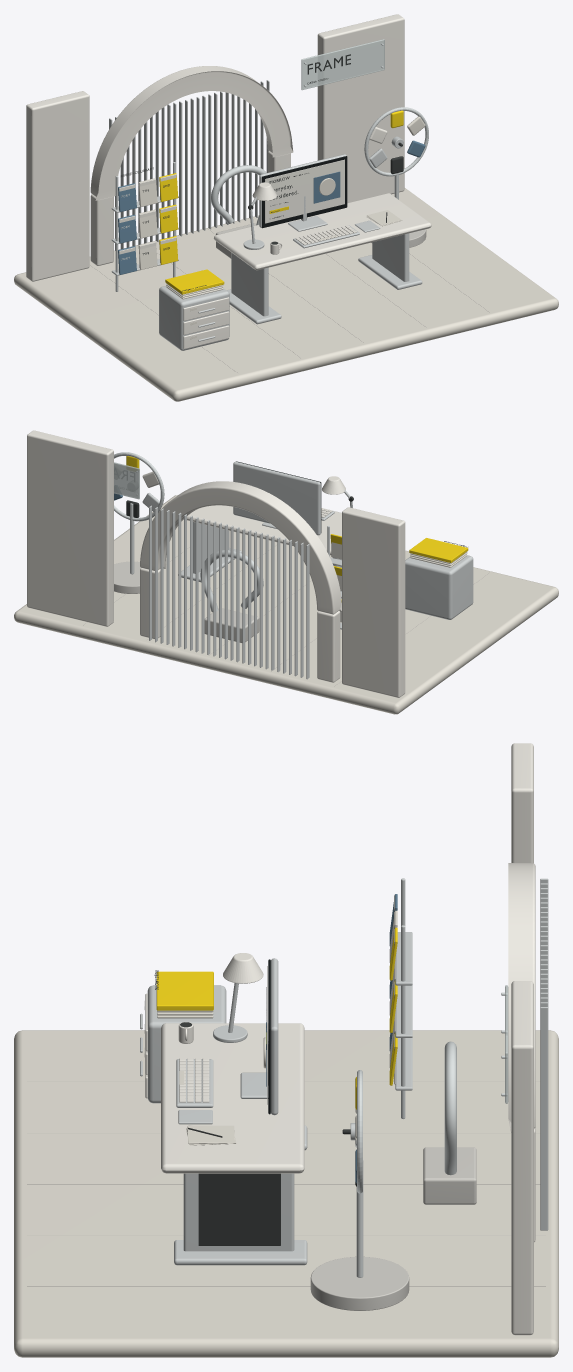
File: studio.glb
The picture shows the model from 3 angles, top to bottom: view 1: azimuth 30°, elevation 25°; view 2: azimuth 150°, elevation 25°; view 3: azimuth 270°, elevation 25°; orthographic projection. The views are drawn at different scales.
Parts seen in each view (by area): view 1: stone studio base, left pier, right pier, vaulted studio lintel, writing desk worktop, screen canvas, frosted glass studio plaque, archive cabinet, folded aluminium desk leg, arch foot left, folded aluminium desk leg.001, graphite monitor bezel (+15 smaller); view 2: stone studio base, right pier, left pier, vaulted studio lintel, archive cabinet, bevelled monitor back, writing desk worktop, arch foot left, arch foot right, yellow project binder, sculpture stone plinth, frosted glass studio plaque (+32 smaller); view 3: stone studio base, writing desk worktop, right pier, shadow line on leg.001, material instrument base, vaulted studio lintel, folded aluminium desk leg.001, sculpture stone plinth, left pier, yellow project binder, archive cabinet, stabilising foot.001 (+9 smaller).
Part boxes in pixels (x1,y1,x2,y2): stone studio base: (14, 188, 558, 401); left pier: (26, 91, 89, 281); right pier: (317, 14, 404, 202); vaulted studio lintel: (90, 66, 293, 200); writing desk worktop: (214, 193, 431, 270); screen canvas: (265, 159, 344, 223); frosted glass studio plaque: (301, 39, 384, 90); archive cabinet: (159, 285, 229, 350); folded aluminium desk leg: (231, 252, 268, 316); arch foot left: (90, 194, 113, 265); folded aluminium desk leg.001: (372, 233, 409, 281); graphite monitor bezel: (262, 156, 347, 228); stone studio base: (14, 495, 558, 714); right pier: (27, 430, 113, 626); left pier: (342, 507, 405, 697); vaulted studio lintel: (140, 481, 341, 614); archive cabinet: (405, 555, 473, 619); bevelled monitor back: (233, 461, 320, 535); writing desk worktop: (187, 505, 341, 555); arch foot left: (317, 611, 340, 682); arch foot right: (140, 568, 160, 639); yellow project binder: (409, 538, 468, 562); sculpture stone plinth: (204, 608, 259, 642); frosted glass studio plaque: (114, 462, 139, 499); stone studio base: (14, 1030, 558, 1357); writing desk worktop: (161, 1023, 304, 1173); right pier: (511, 981, 533, 1335); shadow line on leg.001: (198, 1173, 280, 1245); material instrument base: (310, 1256, 409, 1310); vaulted studio lintel: (508, 863, 535, 1132); folded aluminium desk leg.001: (183, 1173, 294, 1251); sculpture stone plinth: (423, 1147, 476, 1204); left pier: (511, 743, 533, 863); yellow project binder: (156, 971, 213, 1010); archive cabinet: (147, 985, 226, 1103); stabilising foot.001: (174, 1240, 307, 1265).
Size of the model in its own units: 8.6 by 3.94 by 6.3.
